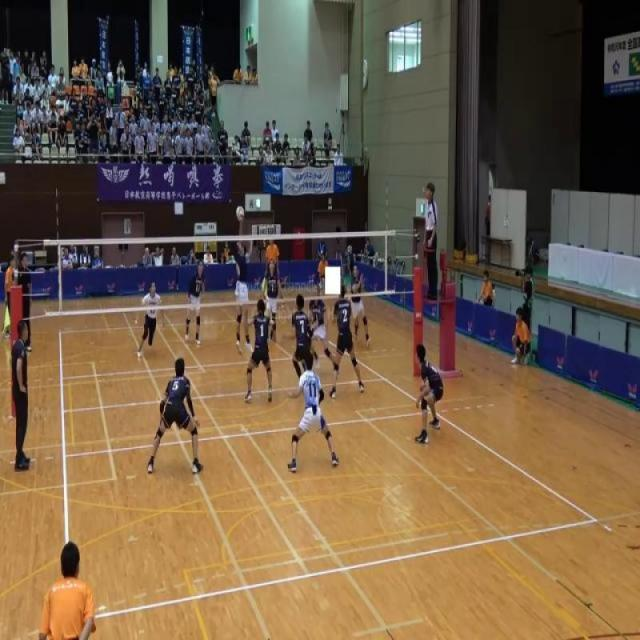volleyball: (235, 206, 246, 222)
